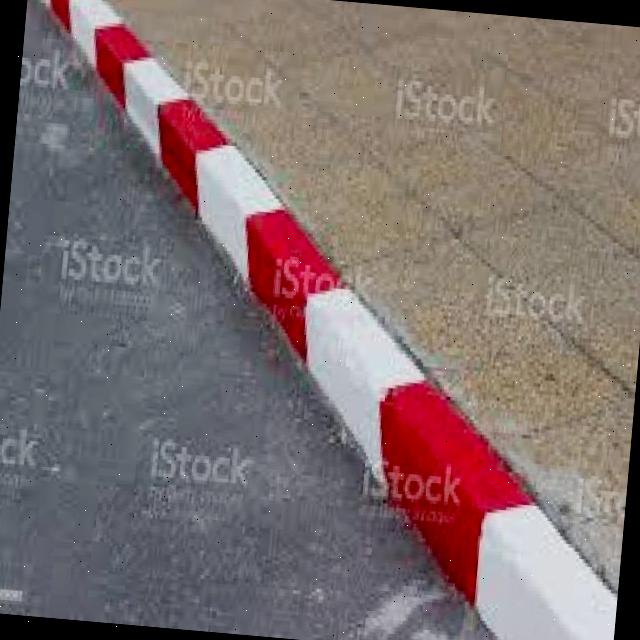curb: (229, 223, 445, 491), (388, 421, 625, 640), (77, 50, 297, 274), (41, 1, 151, 98)
